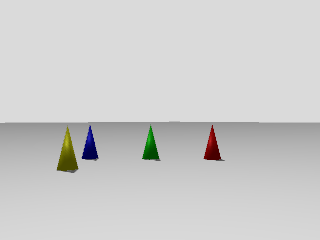blue: (82, 125, 99, 162)
green: (142, 124, 161, 161)
red: (202, 124, 222, 162)
yellow: (55, 123, 78, 172)
